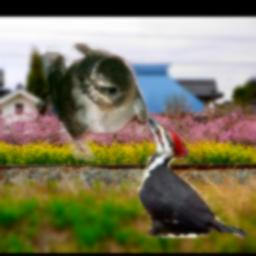Swallow: (33, 43, 150, 162)
Woodpecker: (139, 114, 254, 238)
